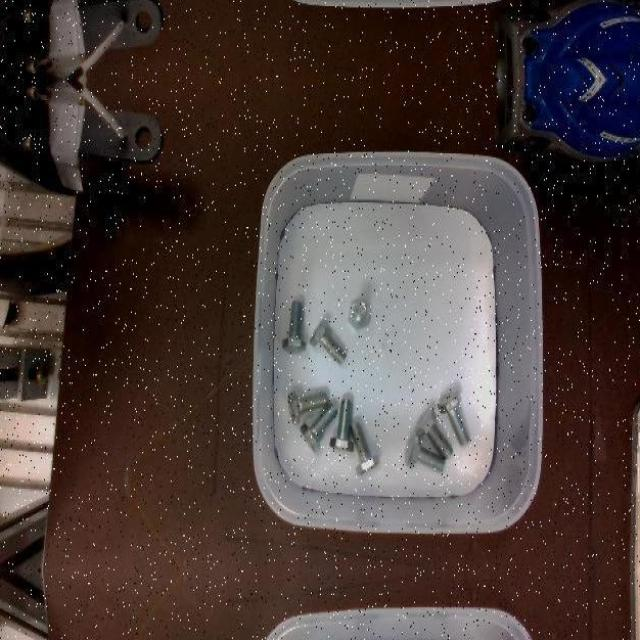screw: (414, 408, 453, 459), (300, 402, 338, 452), (308, 318, 346, 364), (438, 391, 470, 445), (349, 420, 379, 475), (404, 432, 445, 472), (287, 389, 328, 424), (329, 399, 354, 452), (281, 301, 306, 352), (348, 300, 370, 330)
